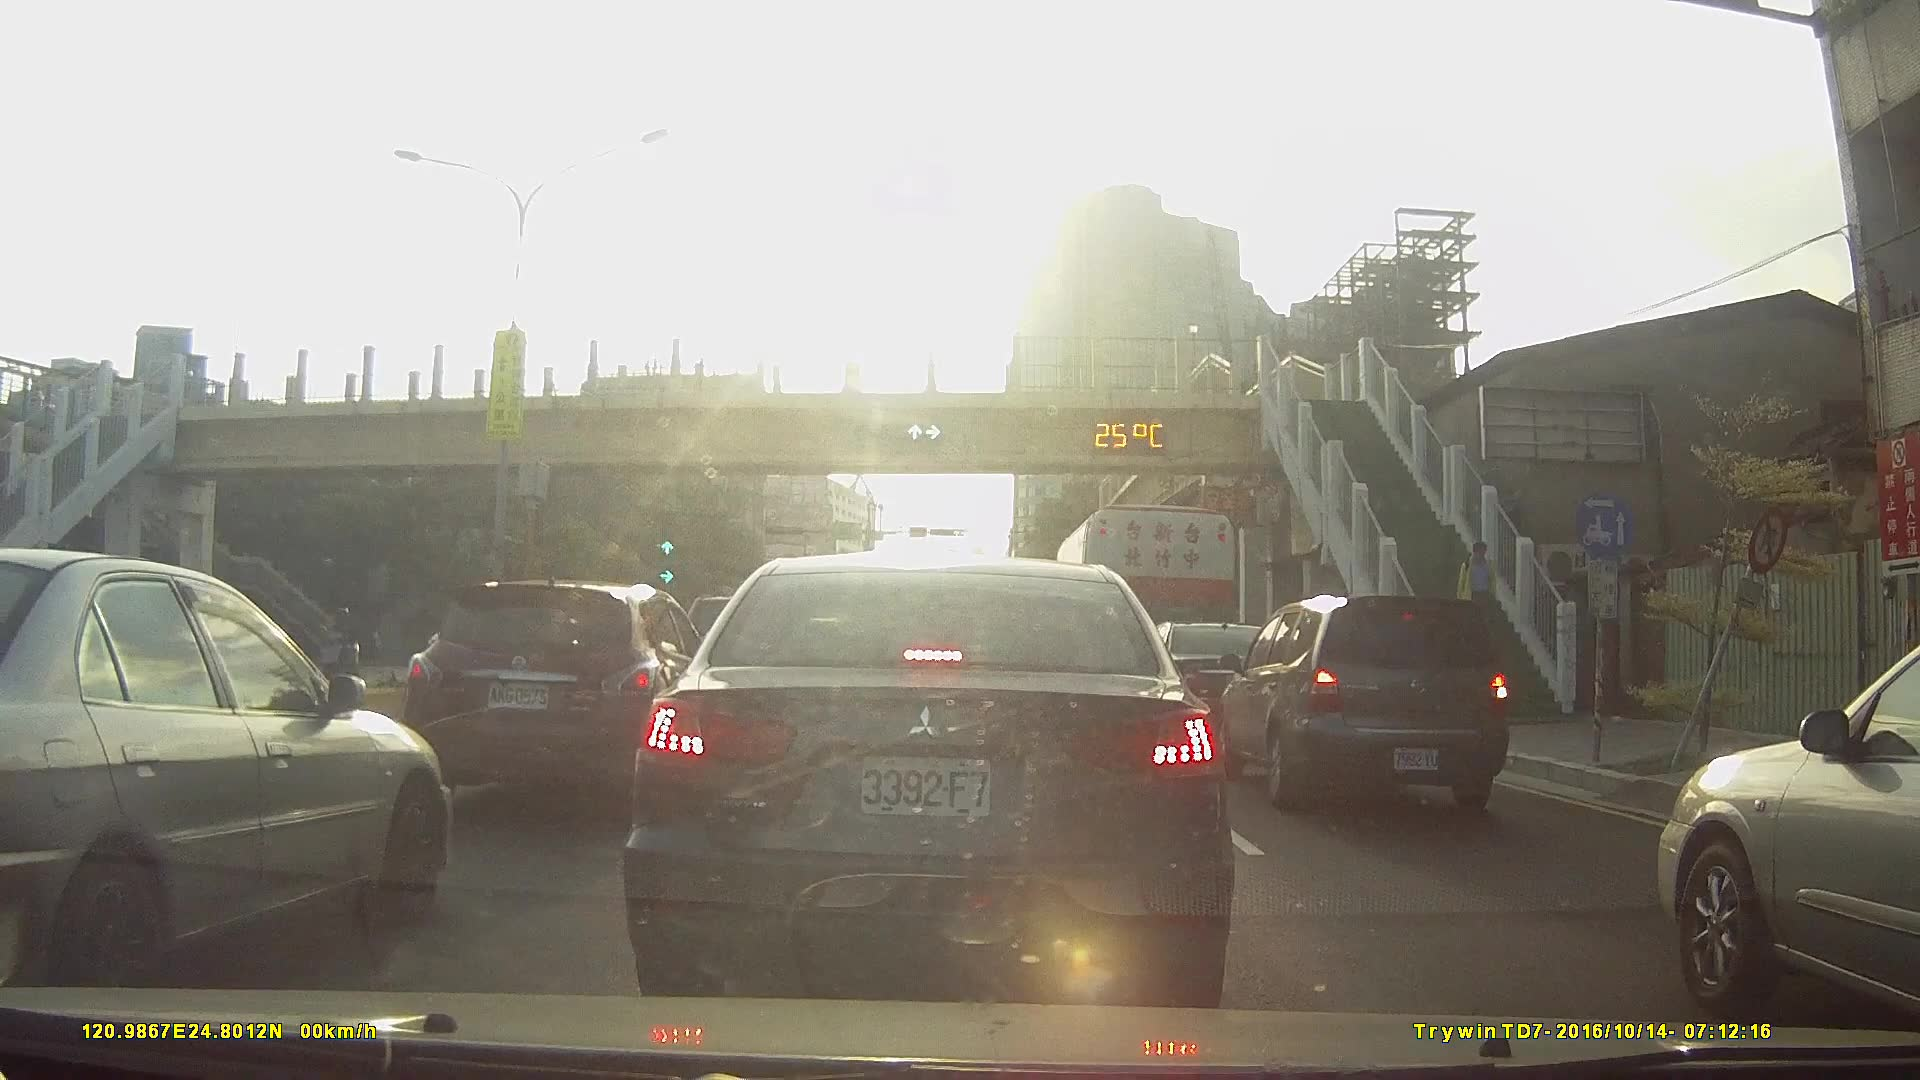pedestrian: (1457, 537, 1506, 643)
rider: (319, 607, 359, 677)
vehicle: (619, 553, 1234, 1001), (0, 544, 455, 1001), (1645, 623, 1920, 1022), (410, 577, 721, 802), (1214, 592, 1525, 811), (1097, 615, 1305, 754)
